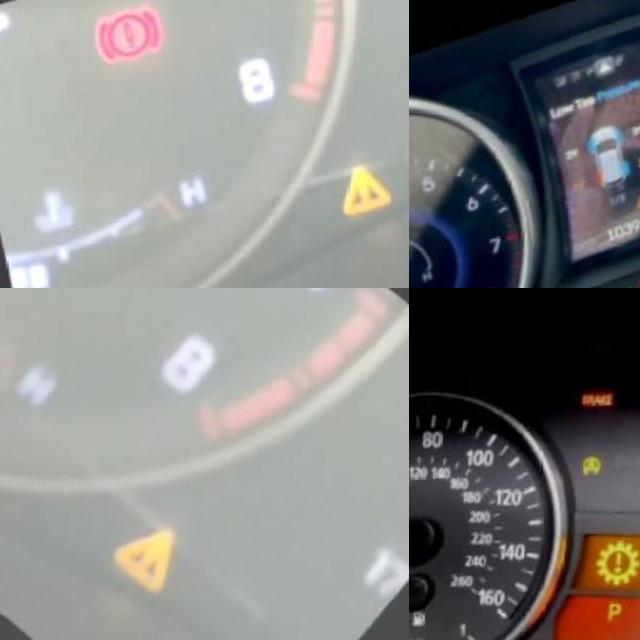Low fuel level: (409, 609, 426, 627)
